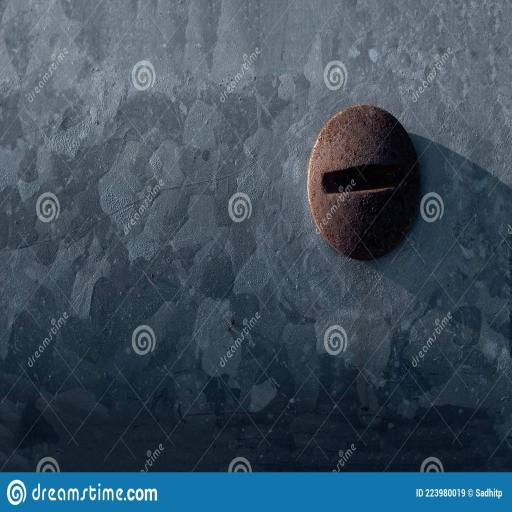Slotted: (308, 102, 424, 266)
